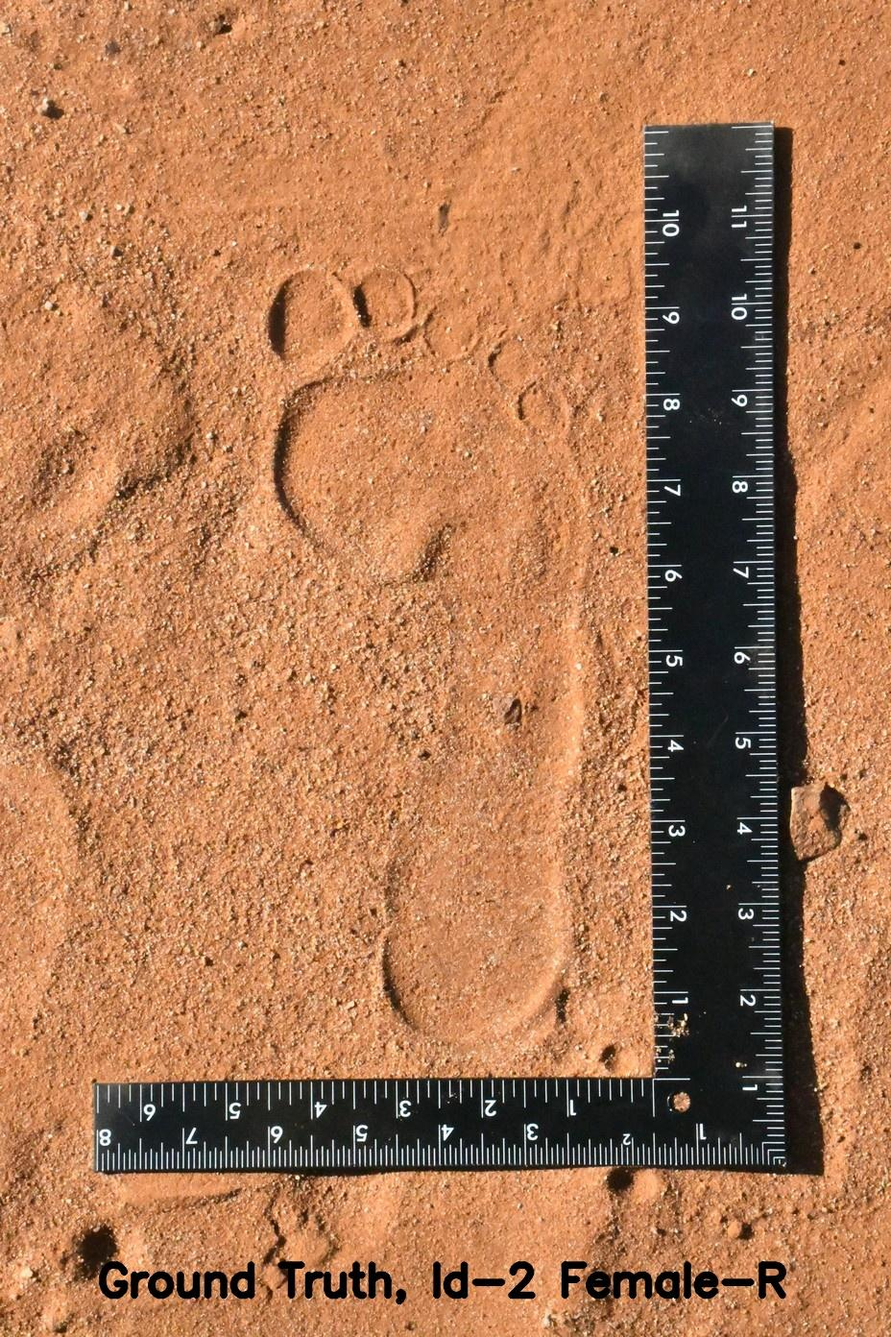human_foot_print: (209, 241, 637, 1053)
